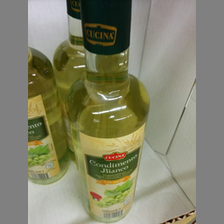vinegar: (70, 2, 149, 224), (27, 46, 72, 184)
